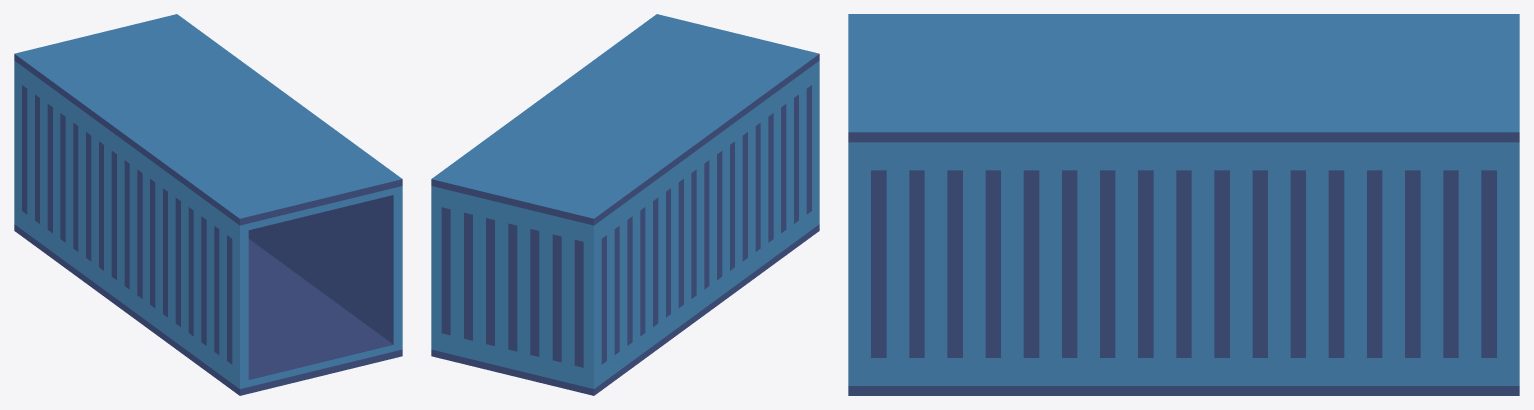
File: cargo-shipping-base_blue.glb
3 views of the same model, side by side, from view 1: azimuth 30°, elevation 25°; view 2: azimuth 150°, elevation 25°; view 3: azimuth 270°, elevation 25° (orthographic). The views are drawn at different scales.
Parts seen in each view (by area): view 1: cargo-shipping-base_blue; view 2: cargo-shipping-base_blue; view 3: cargo-shipping-base_blue.
Boxes of the visible parts, x1,y1,x2,y2 form: cargo-shipping-base_blue: (14, 14, 402, 395); cargo-shipping-base_blue: (431, 14, 819, 395); cargo-shipping-base_blue: (848, 14, 1519, 395).
Size of the model in its own units: 2.5 by 2.6 by 6.
Materials: 1 (1 with a texture image).
